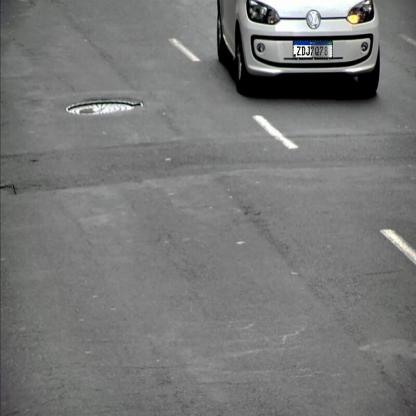PlacaM: (293, 40, 333, 58)
